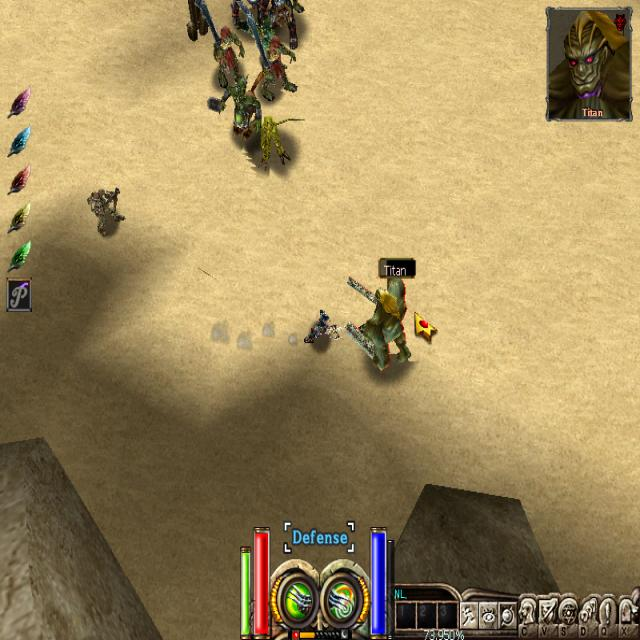monster: (356, 239, 431, 397), (72, 176, 131, 243)
